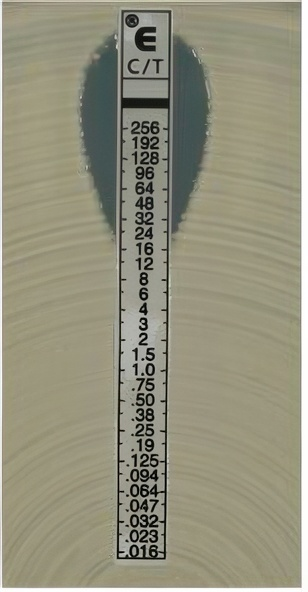line: (115, 7, 174, 562)
zone: (79, 32, 210, 233)
